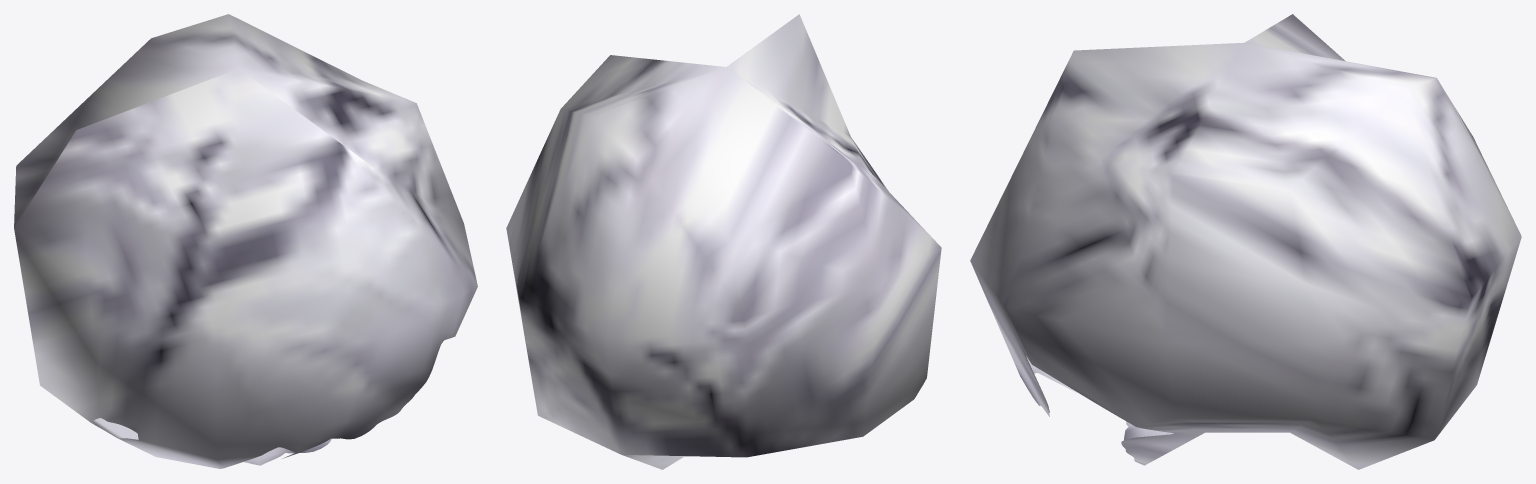
Rendered from crumpled_paper_2.FBX.
3 views of the same model, side by side, from view 1: azimuth 30°, elevation 25°; view 2: azimuth 150°, elevation 25°; view 3: azimuth 270°, elevation 25° (orthographic). The views are drawn at different scales.
Parts seen in each view (by area): view 1: crumpled_paper_2; view 2: crumpled_paper_2; view 3: crumpled_paper_2.
Boxes of the visible parts, x1,y1,x2,y2 form: crumpled_paper_2: (14, 14, 477, 468); crumpled_paper_2: (506, 14, 941, 469); crumpled_paper_2: (970, 14, 1521, 469).
Bounding box in the file's own units: 7.59 × 6.73 × 8.56.
